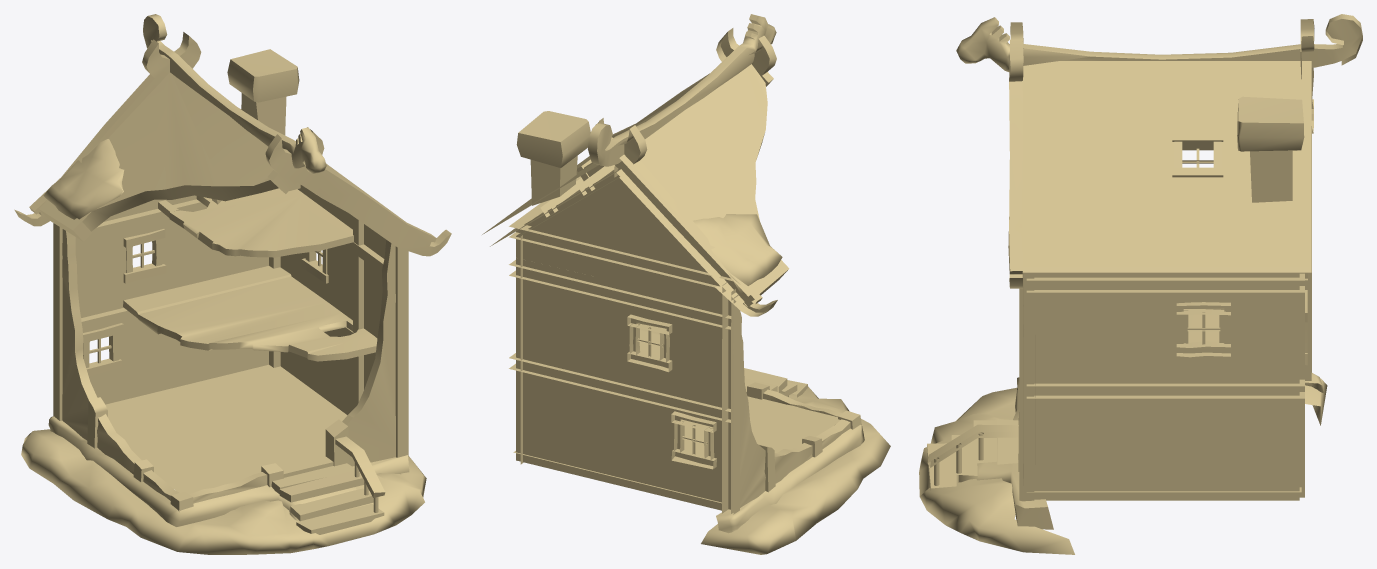
The model's file is house.fbx.
The picture shows the model from 3 angles, left to right: view 1: azimuth 30°, elevation 25°; view 2: azimuth 150°, elevation 25°; view 3: azimuth 270°, elevation 25°; orthographic projection. The views are drawn at different scales.
Parts seen in each view (by area): view 1: house; view 2: house; view 3: house.
Part boxes in pixels (x1=…): house: x1=14, y1=14, x2=451, y2=554; house: x1=482, y1=14, x2=890, y2=554; house: x1=919, y1=14, x2=1362, y2=554.
Bounding box in the file's own units: 624 × 763 × 660.
